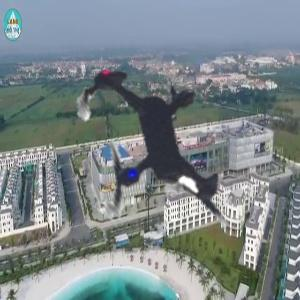drone: (2, 1, 298, 297)
